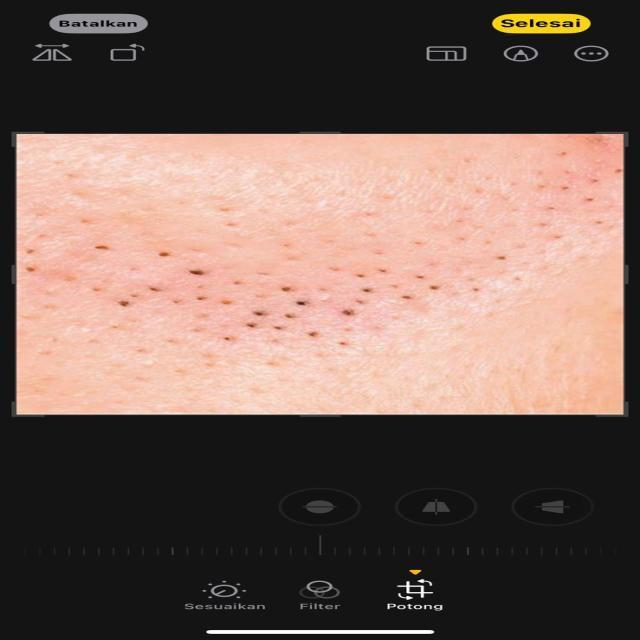blackhead: (15, 231, 562, 387)
